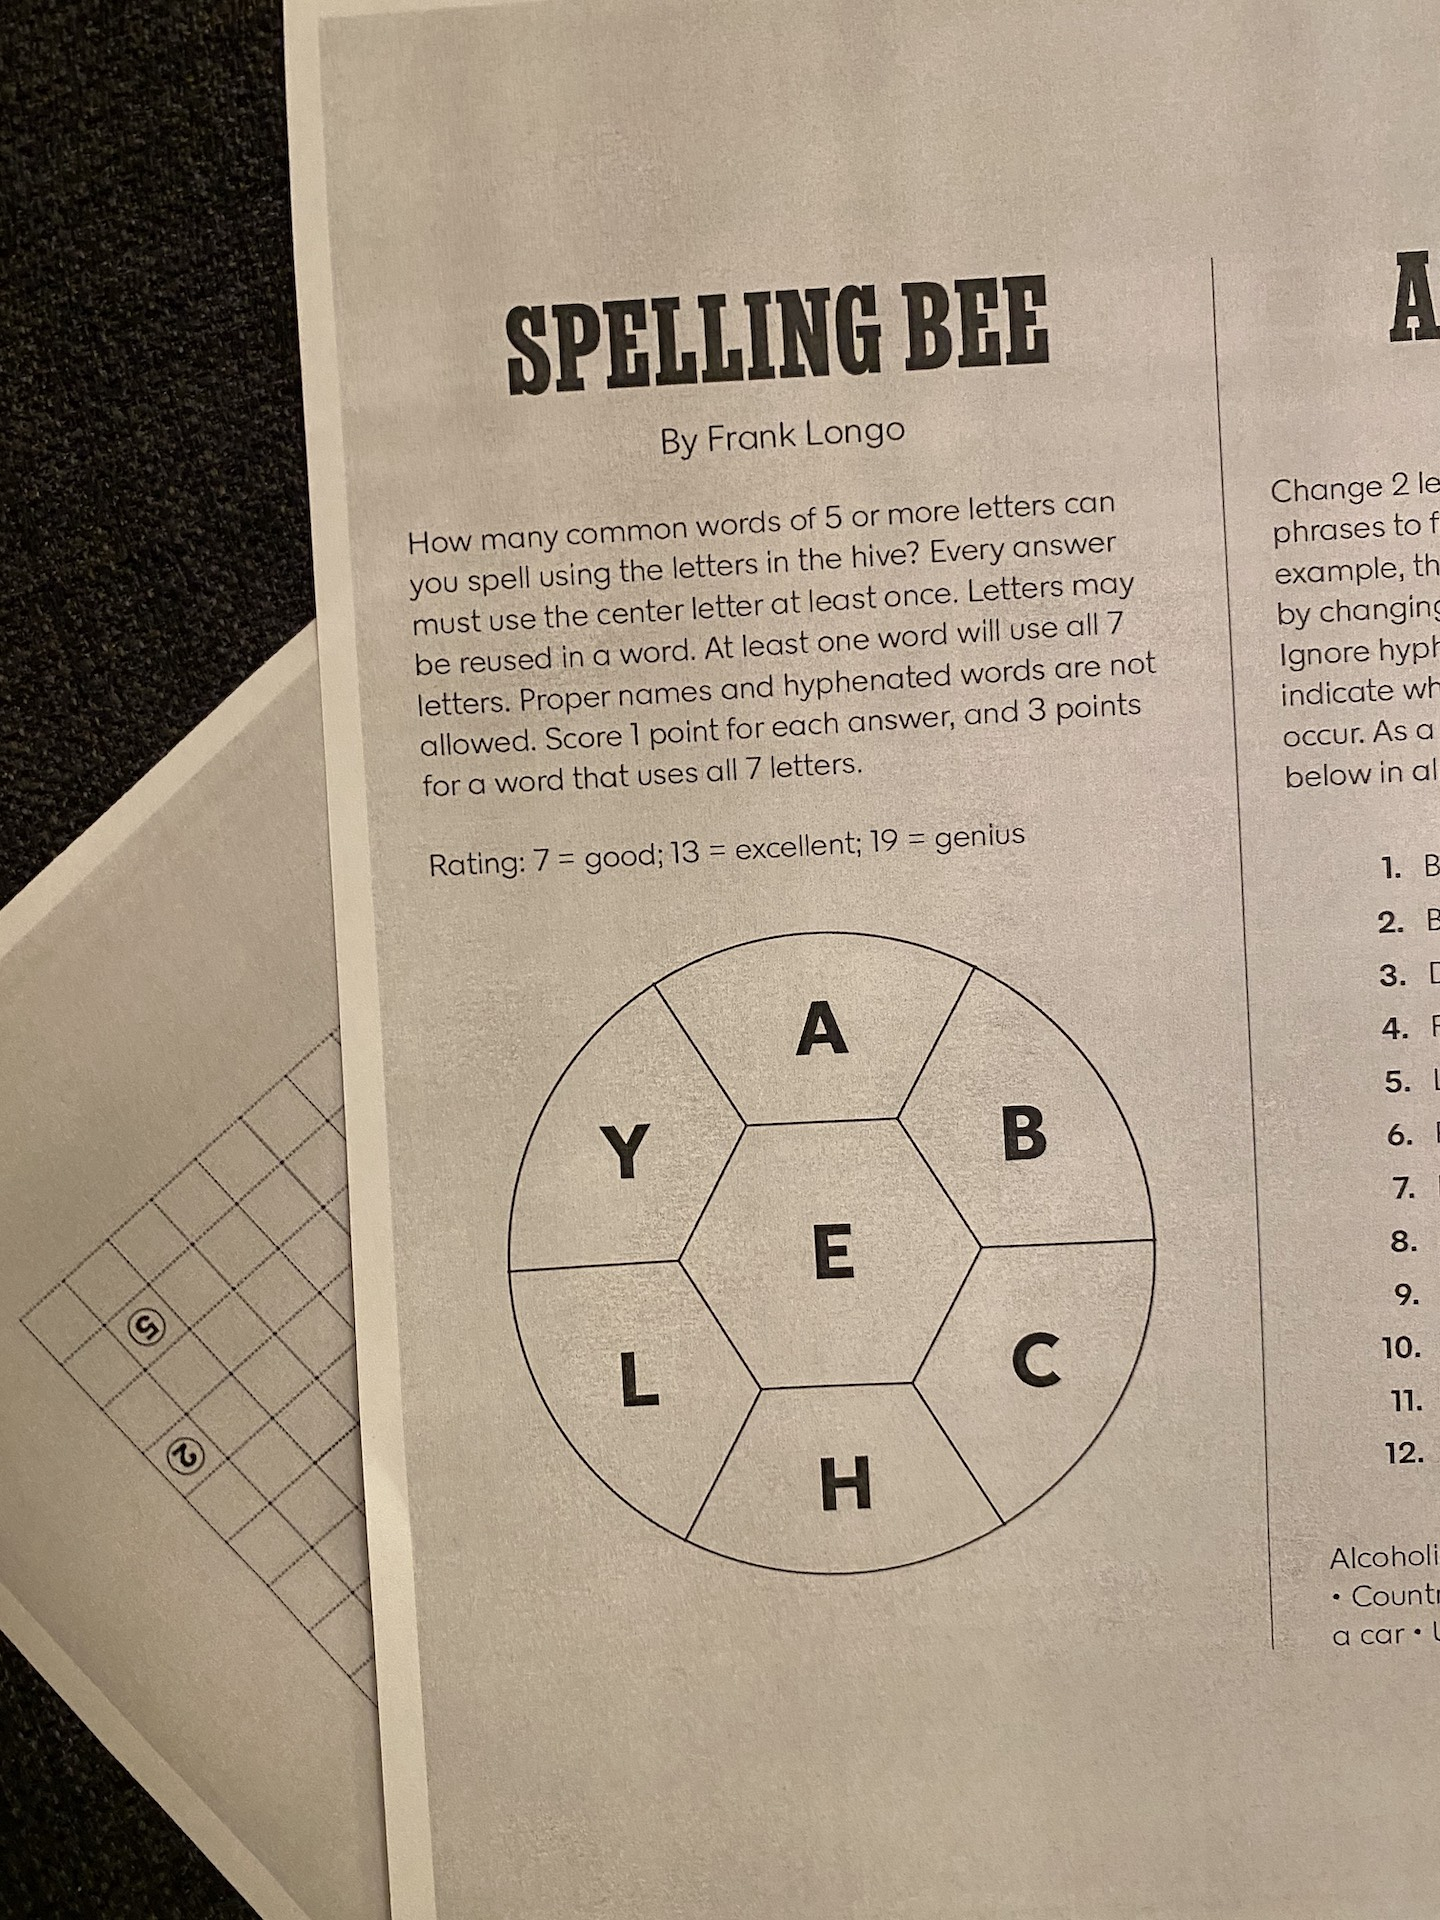PrintBoard: (489, 921, 1171, 1590)
